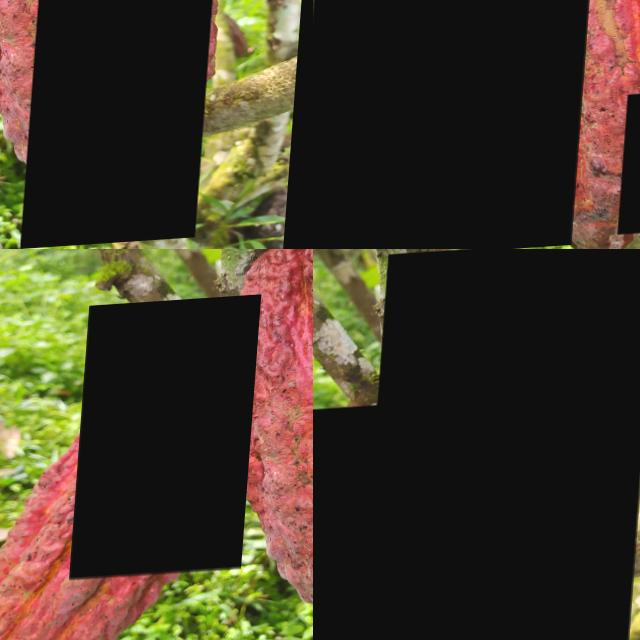Monilia: (29, 0, 223, 249)
Sana: (366, 249, 640, 640), (313, 0, 602, 249), (76, 299, 264, 582), (313, 407, 403, 640)
